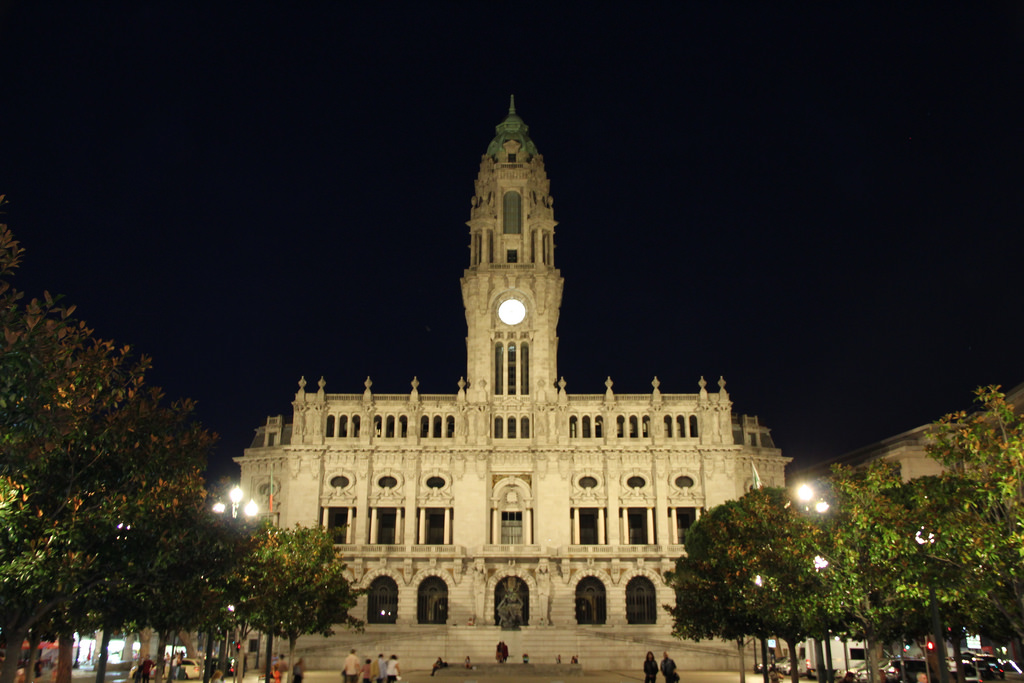camara: (231, 96, 795, 650)
